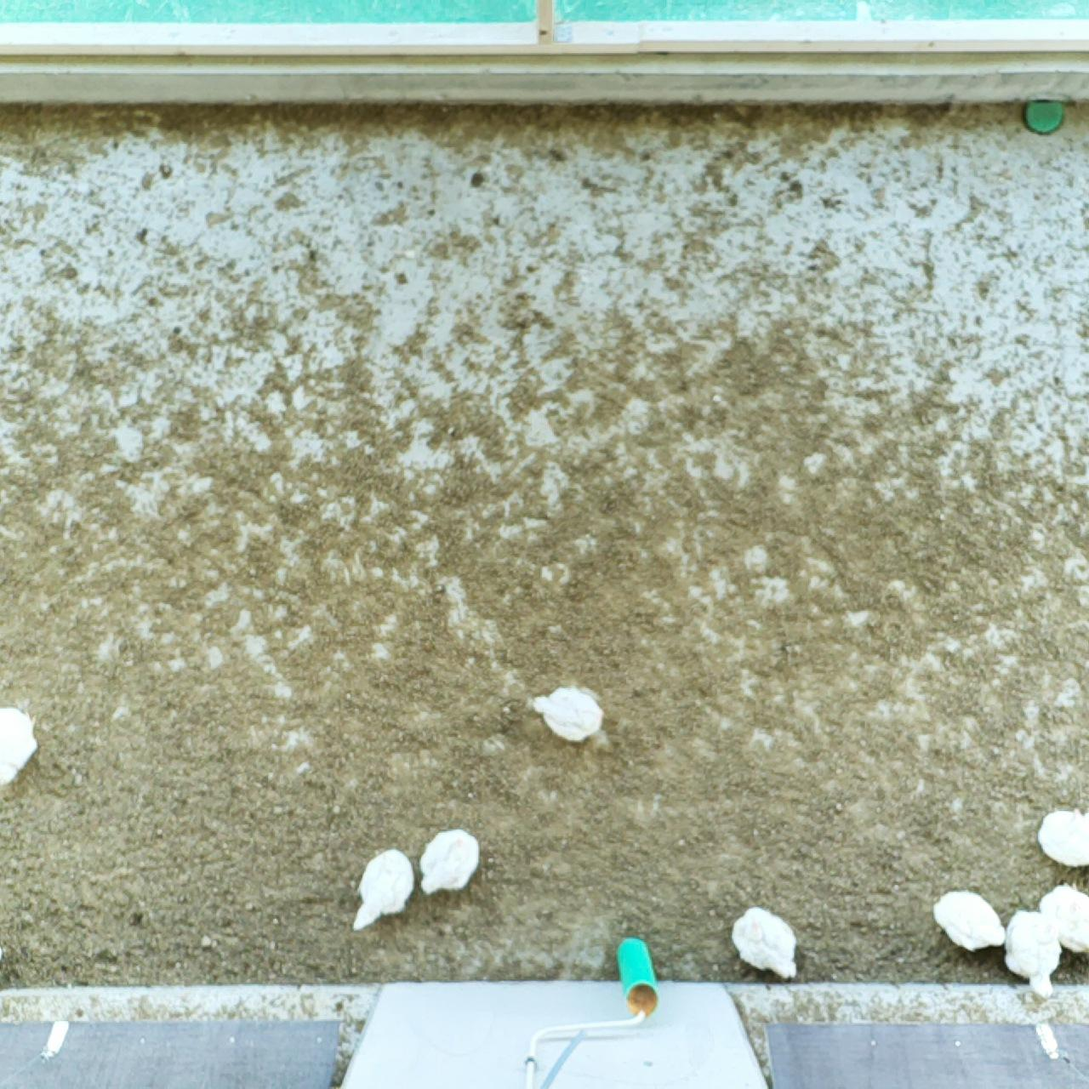chicken: (346, 846, 418, 936), (999, 904, 1062, 996), (727, 908, 802, 979), (416, 825, 486, 899), (534, 683, 610, 747), (933, 886, 1004, 952), (1035, 882, 1089, 955), (0, 699, 43, 788), (1033, 804, 1089, 872)
